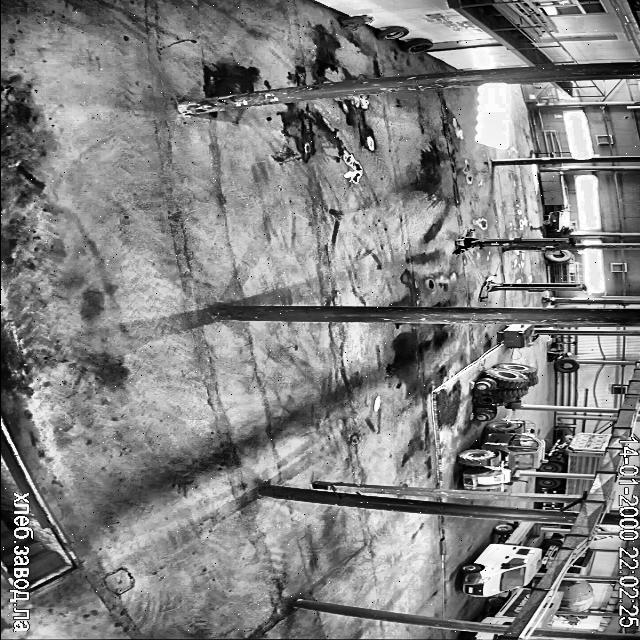class6: (458, 419, 544, 489), (474, 362, 538, 420)
class7: (460, 521, 540, 596), (539, 432, 612, 473), (482, 588, 532, 624), (557, 580, 594, 622), (538, 477, 594, 494), (538, 592, 560, 628), (541, 536, 563, 570), (567, 548, 595, 574), (541, 498, 580, 511), (461, 632, 502, 640)
tractor: (340, 16, 372, 29)
truck: (454, 230, 573, 253), (479, 276, 586, 300)
